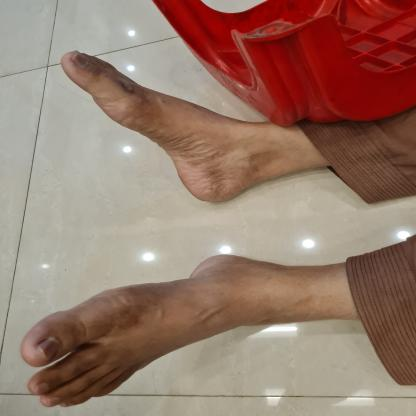leg: (10, 245, 343, 416), (58, 44, 332, 204)
